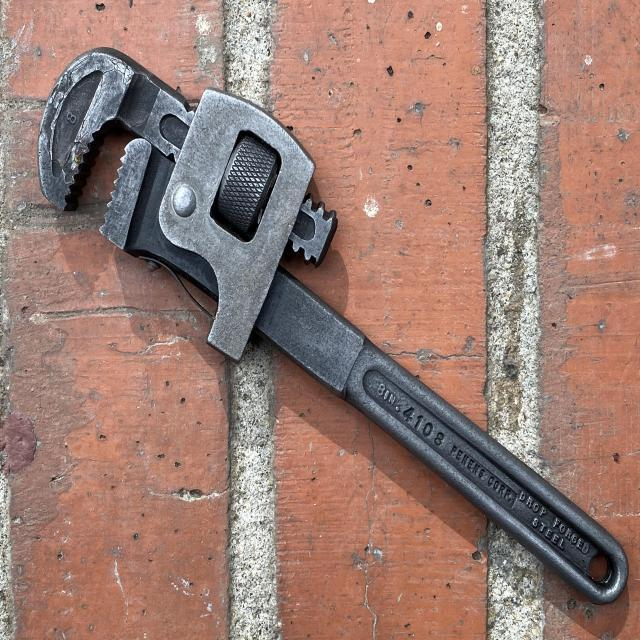wrench: (31, 43, 630, 606)
